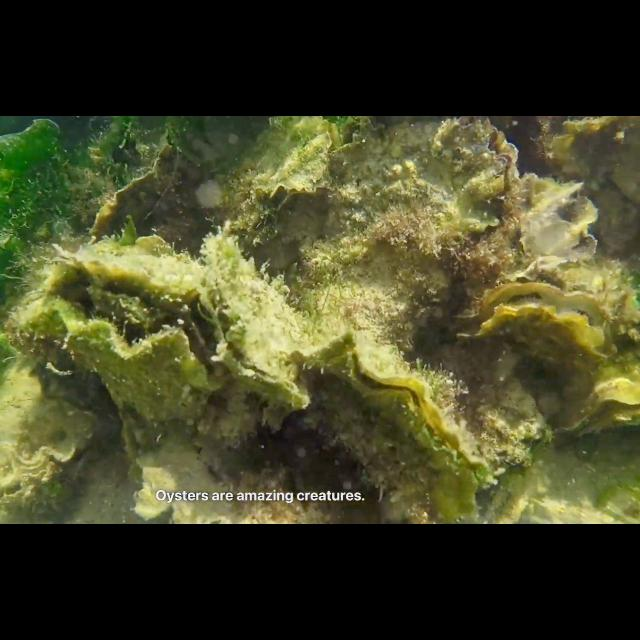Oyster-Closed: (86, 134, 196, 244)
Oyster-Open: (317, 116, 521, 352), (287, 328, 489, 520), (19, 249, 233, 429), (196, 232, 312, 413), (455, 281, 617, 371), (541, 116, 640, 251), (0, 401, 101, 513), (502, 173, 600, 279), (244, 134, 334, 208), (550, 378, 640, 442), (220, 175, 278, 248), (117, 406, 157, 486)
